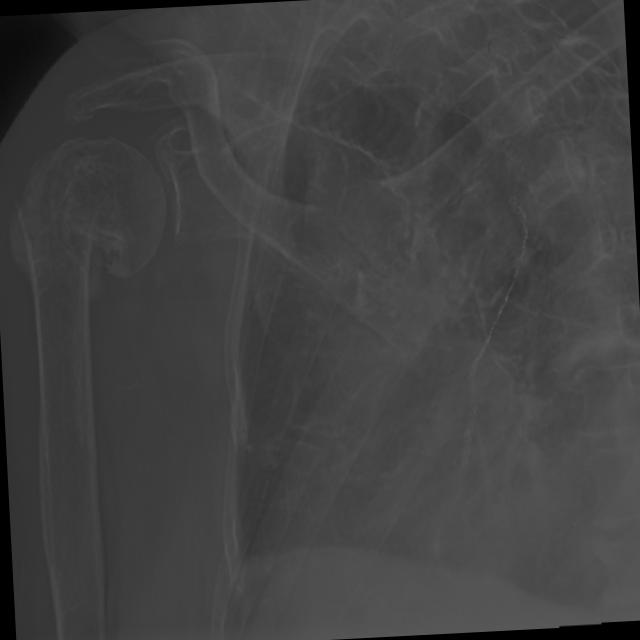shoulder fracture: (4, 165, 140, 310)
